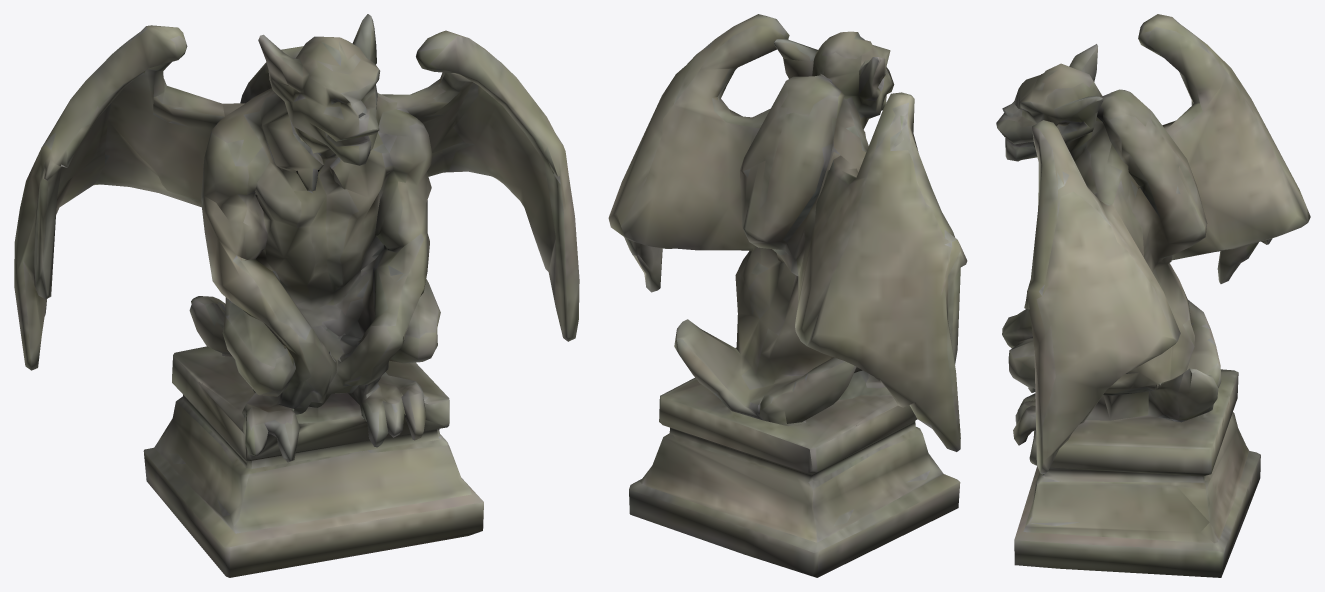
File: ornate-limestone-gargoyle-v001.glb
3 views of the same model, side by side, from view 1: azimuth 30°, elevation 25°; view 2: azimuth 150°, elevation 25°; view 3: azimuth 270°, elevation 25° (orthographic). The views are drawn at different scales.
Parts seen in each view (by area): view 1: ornate-limestone-gargoyle; view 2: ornate-limestone-gargoyle; view 3: ornate-limestone-gargoyle.
Boxes of the visible parts, x1,y1,x2,y2 form: ornate-limestone-gargoyle: (14, 14, 579, 577); ornate-limestone-gargoyle: (608, 14, 967, 577); ornate-limestone-gargoyle: (996, 14, 1310, 577).
Size of the model in its own units: 0.6029 by 0.6407 by 0.4053.
Materials: 1 (1 with a texture image).
